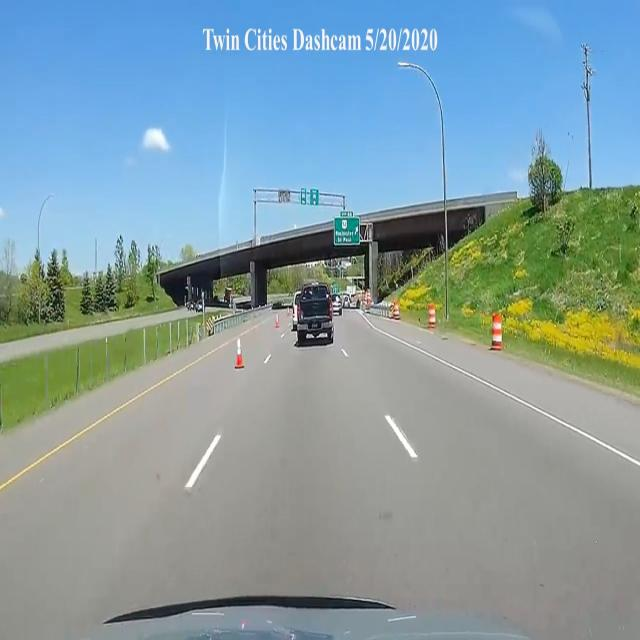cone: (231, 338, 246, 372)
